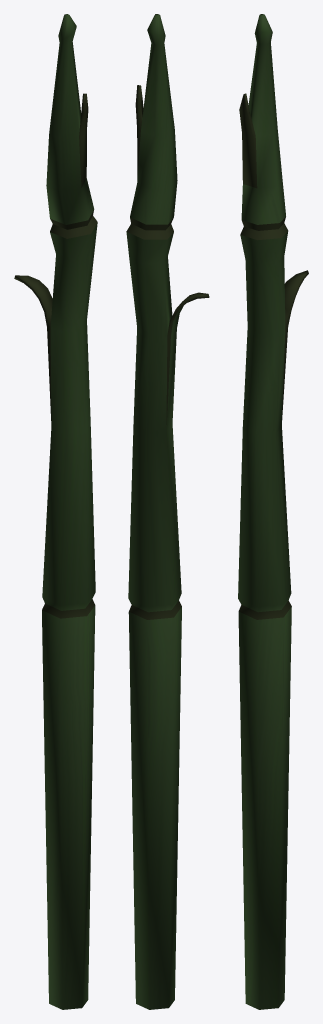
The model's file is Phase 4 Bamboo 4.fbx.
3 views of the same model, side by side, from view 1: azimuth 30°, elevation 25°; view 2: azimuth 210°, elevation 25°; view 3: azimuth 270°, elevation 25° (orthographic).
Visible parts, largest first — view 1: Phase 4 Bamboo 4; view 2: Phase 4 Bamboo 4; view 3: Phase 4 Bamboo 4.
Boxes of the visible parts, x1,y1,x2,y2 form: Phase 4 Bamboo 4: [14, 14, 97, 1009]; Phase 4 Bamboo 4: [126, 14, 209, 1009]; Phase 4 Bamboo 4: [238, 14, 308, 1009].
Bounding box in the file's own units: 42.04 × 689 × 44.98.
